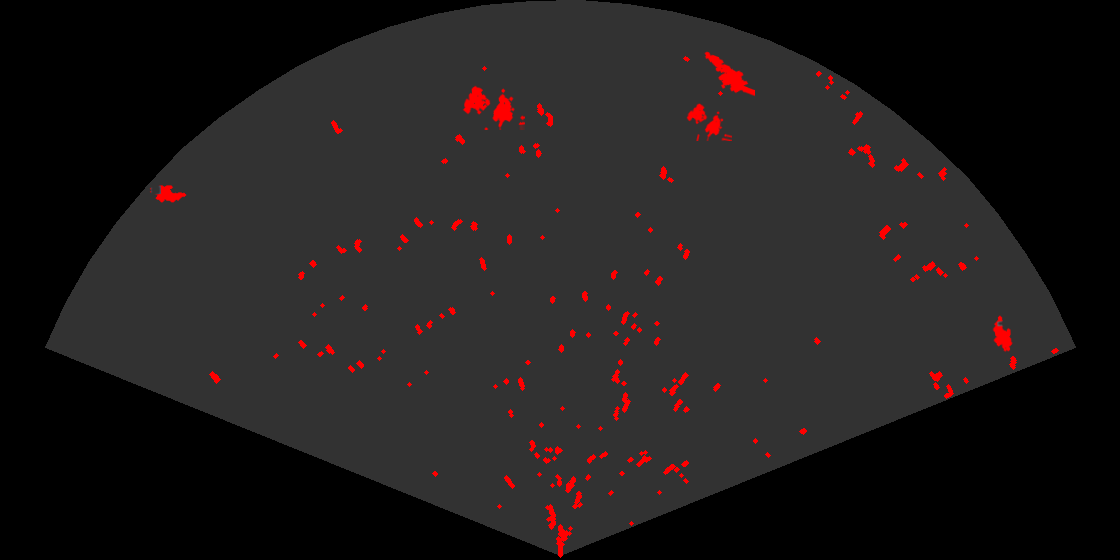AUV: (991, 314, 1014, 354), (148, 184, 188, 204)
cage: (461, 84, 525, 130), (685, 102, 732, 141)
frogman: (702, 50, 755, 98)
